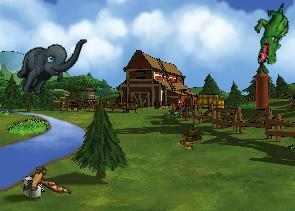crocodile: (250, 3, 293, 66)
eagle: (17, 159, 71, 205)
elephant: (12, 22, 87, 106)
